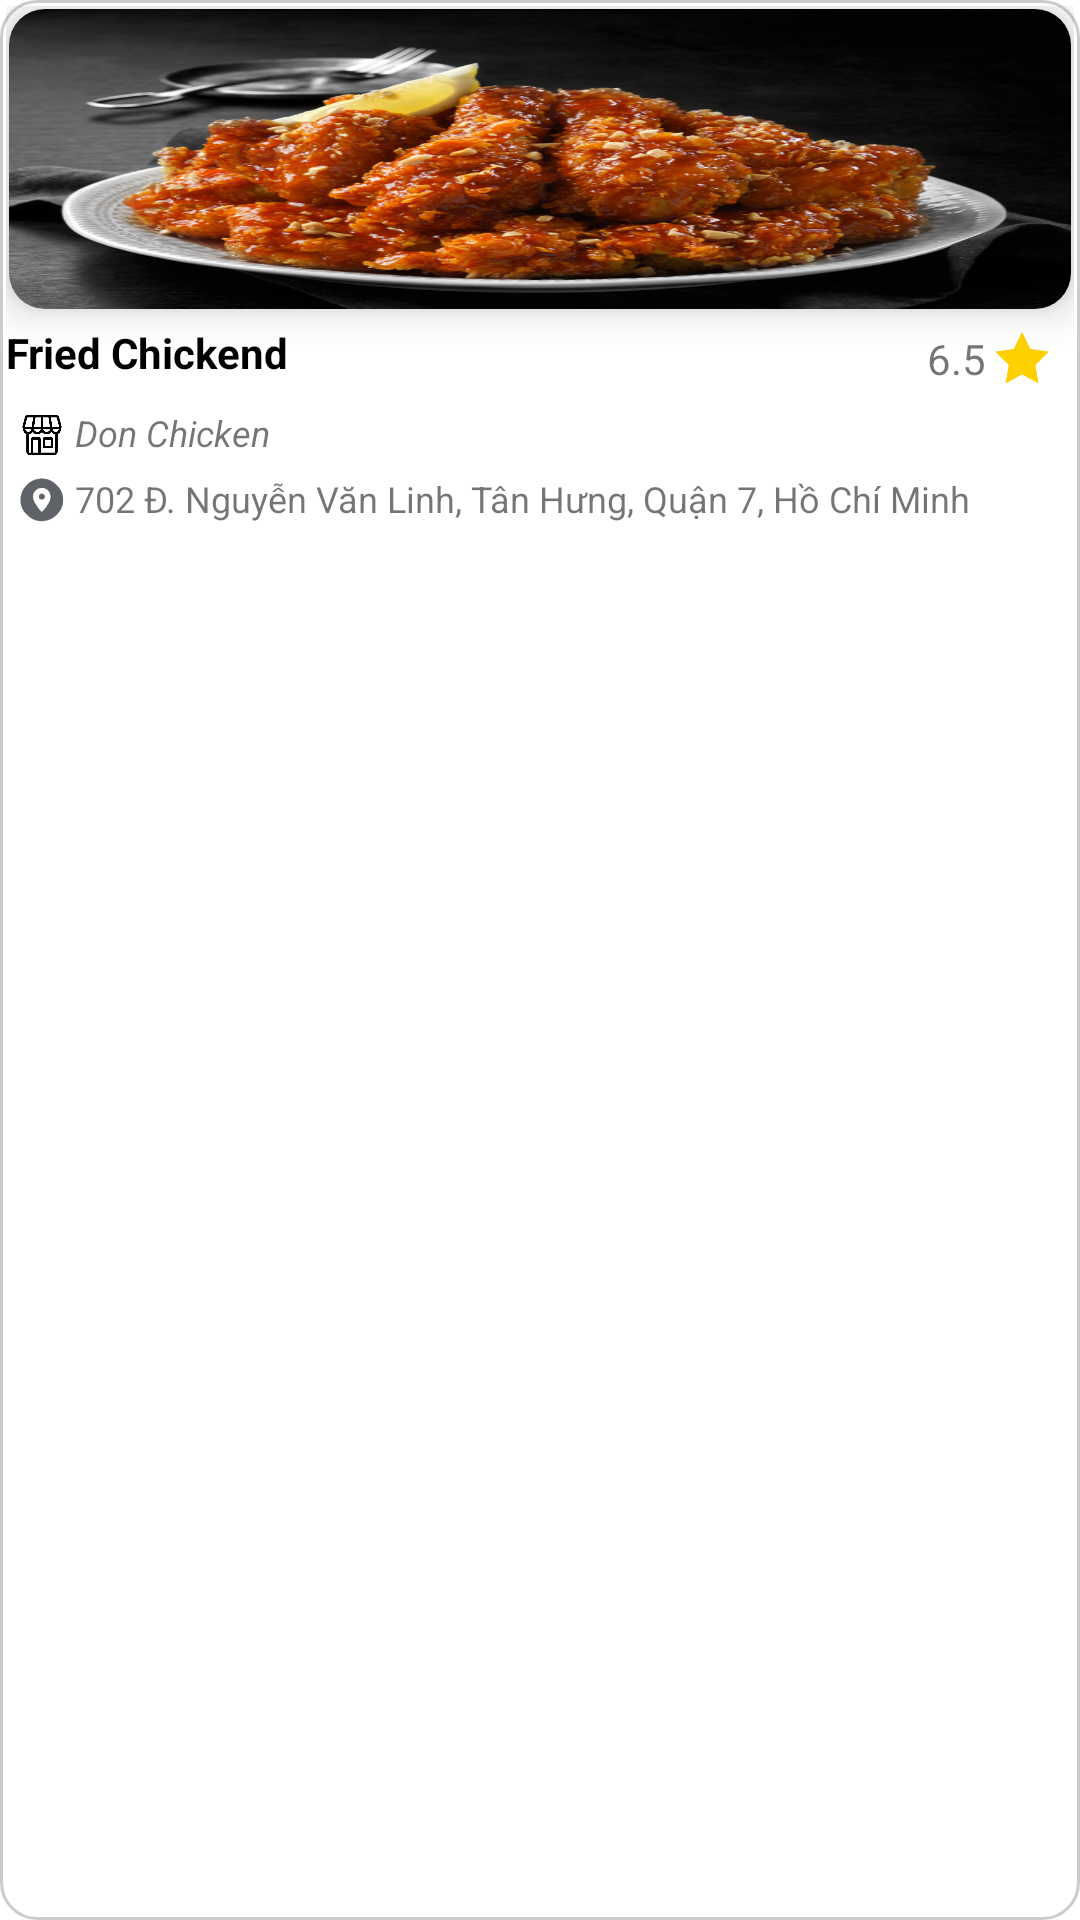

Icons on this 1080px×1920px Android screen, each with its box as region(x1, y1, x2, y2):
marker: region(20, 478, 63, 522)
star: region(996, 332, 1049, 383)
store: region(22, 415, 62, 455)
